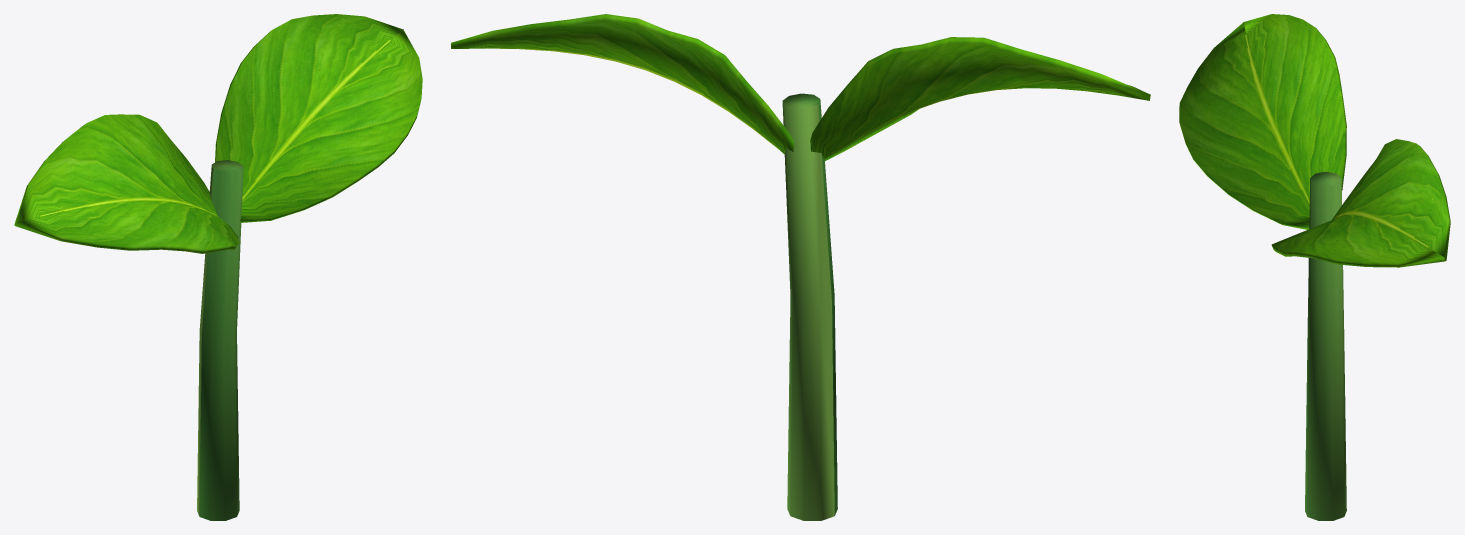
File: NP_Marigold_Sprout.fbx
3 renders of one model, left to right at view 1: azimuth 30°, elevation 25°; view 2: azimuth 150°, elevation 25°; view 3: azimuth 270°, elevation 25°, orthographic. The views are drawn at different scales.
Visible parts, largest first — view 1: NP_Marigold_Sprout; view 2: NP_Marigold_Sprout; view 3: NP_Marigold_Sprout.
Boxes of the visible parts, x1,y1,x2,y2 form: NP_Marigold_Sprout: (14, 14, 422, 520); NP_Marigold_Sprout: (451, 14, 1150, 520); NP_Marigold_Sprout: (1179, 14, 1450, 520).
Size of the model in its own units: 15.65 by 13.08 by 7.65.
